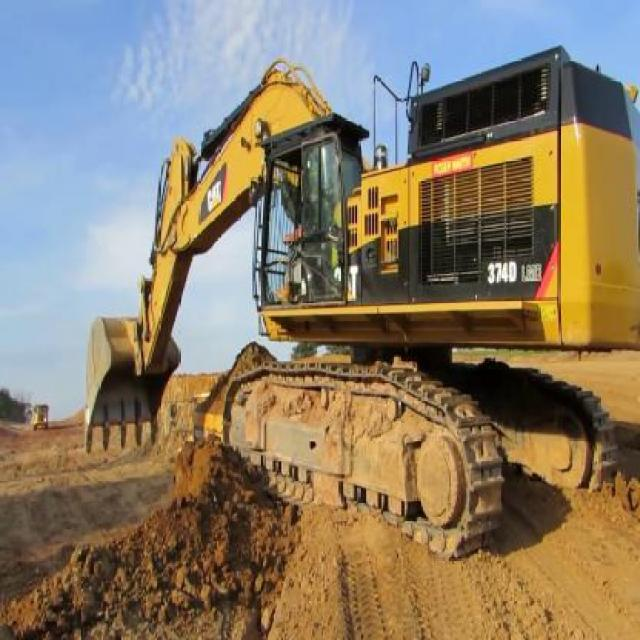Excavator: (73, 41, 639, 562)
